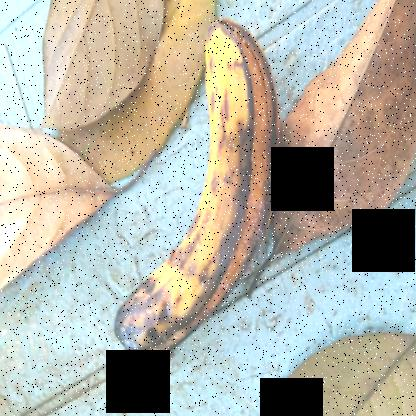rotten: (78, 1, 293, 384)
